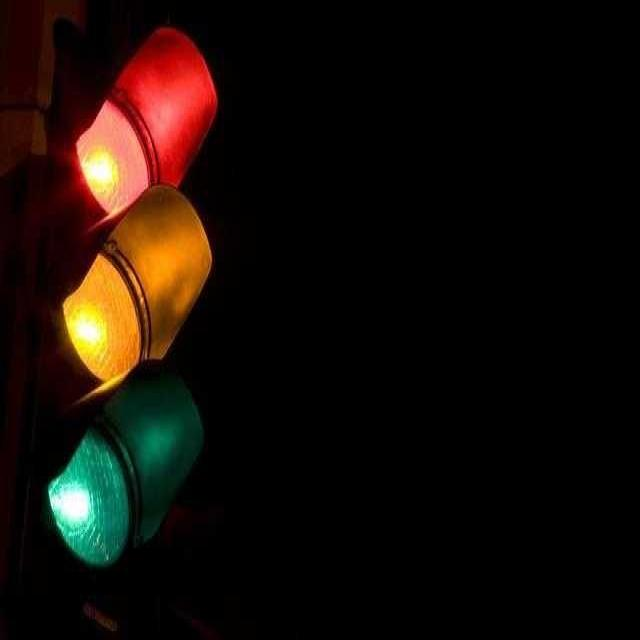Traffic Light -Green-: (40, 367, 214, 572)
Traffic Light -Red-: (54, 18, 233, 184)
Traffic Light -Yellow-: (54, 190, 225, 355)
